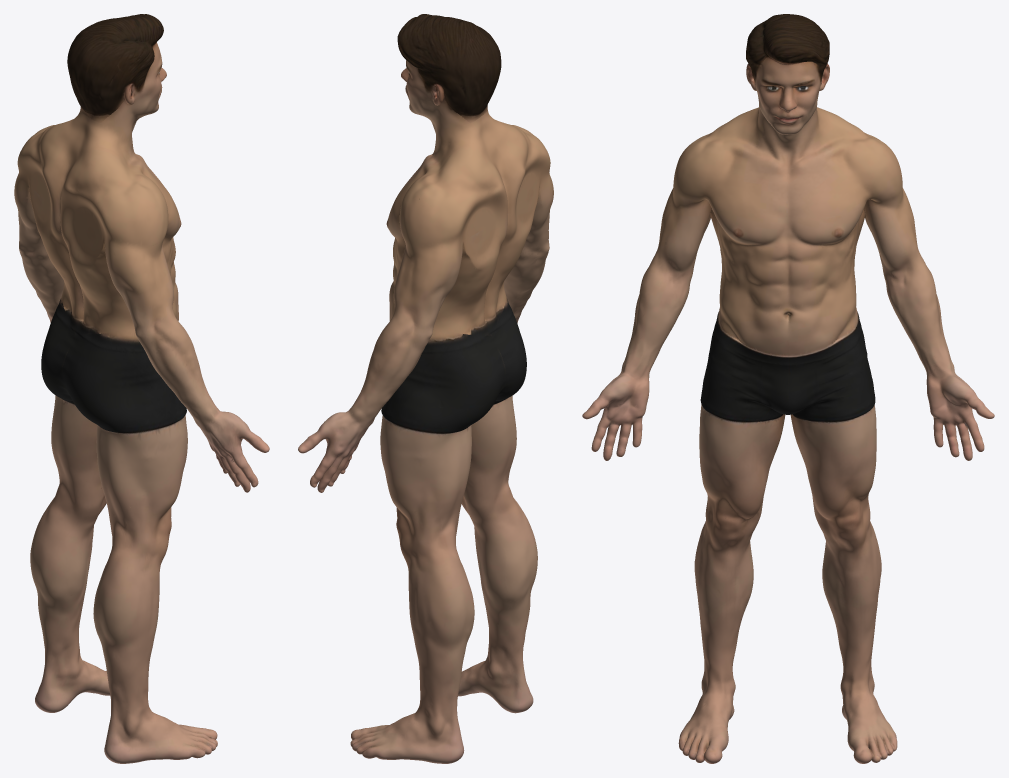
The model's file is body-v14.glb.
The picture shows the model from 3 angles, left to right: view 1: azimuth 30°, elevation 25°; view 2: azimuth 150°, elevation 25°; view 3: azimuth 270°, elevation 25°; orthographic projection.
Parts seen in each view (by area): view 1: tripo_node_3773f2f5-c201-4bd6-905f-09da226c5b32; view 2: tripo_node_3773f2f5-c201-4bd6-905f-09da226c5b32; view 3: tripo_node_3773f2f5-c201-4bd6-905f-09da226c5b32.
Part boxes in pixels (x1=…): tripo_node_3773f2f5-c201-4bd6-905f-09da226c5b32: x1=14, y1=14, x2=269, y2=763; tripo_node_3773f2f5-c201-4bd6-905f-09da226c5b32: x1=298, y1=14, x2=553, y2=763; tripo_node_3773f2f5-c201-4bd6-905f-09da226c5b32: x1=582, y1=14, x2=994, y2=763.
Bounding box in the file's own units: 0.3674 × 2 × 1.04.
1 material, 1 textured.
